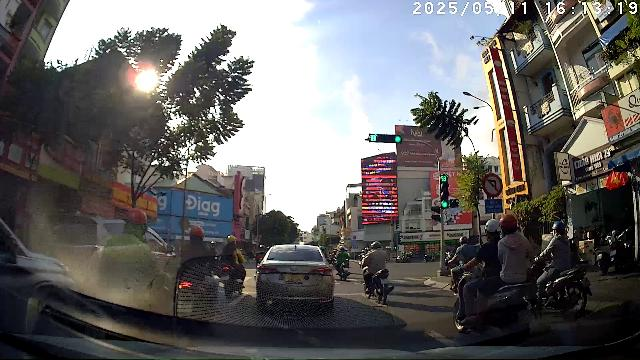123a-cam-re-trai: (481, 173, 503, 198)
